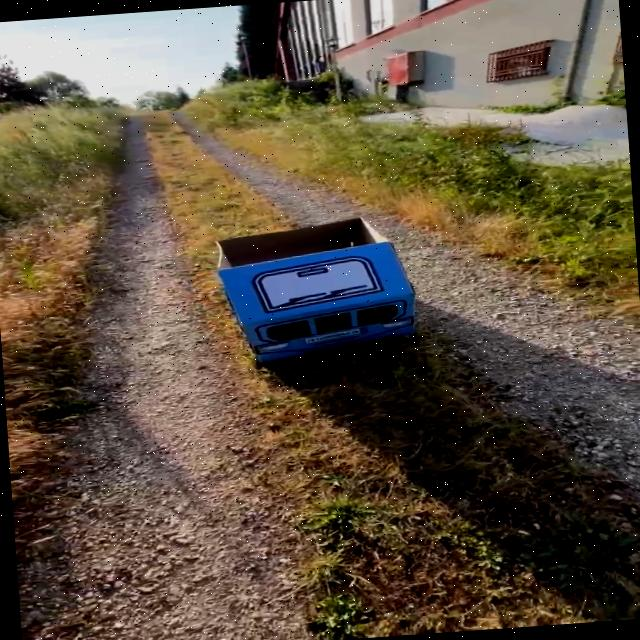blue_car: (172, 191, 481, 395)
